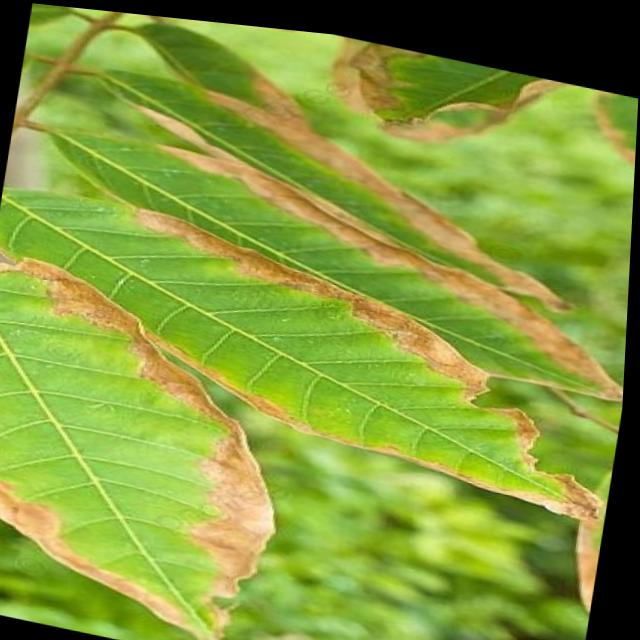Leaf Blight: (92, 30, 627, 317), (0, 242, 598, 480), (0, 392, 369, 640)
